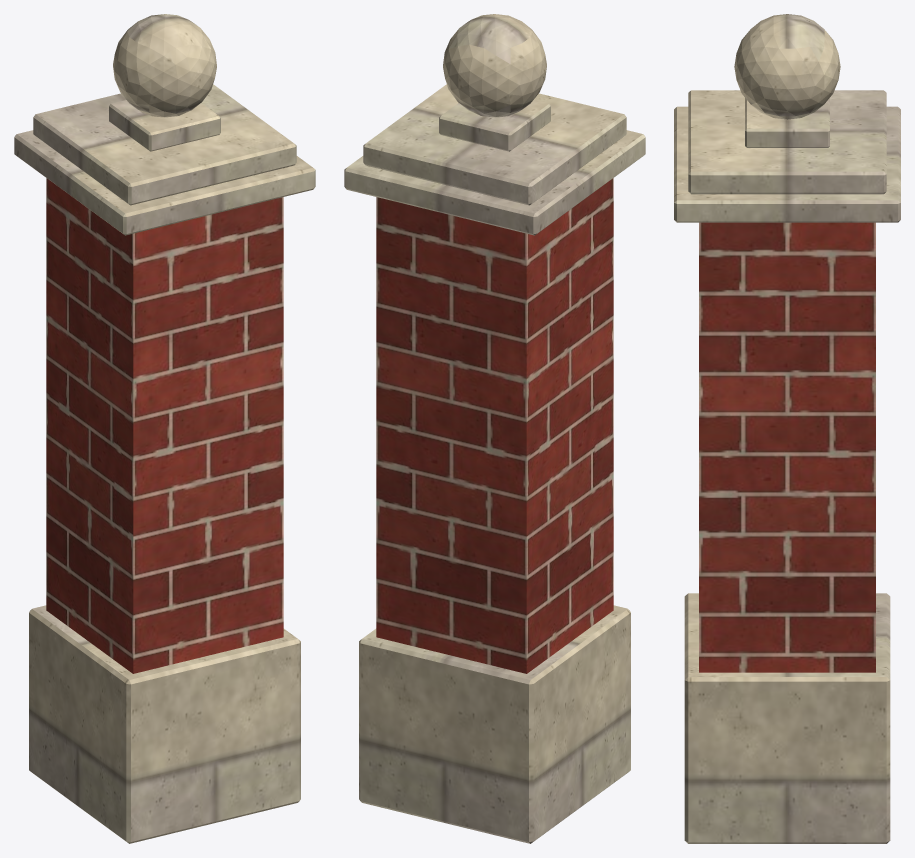
Rendered from fence_pier.glb.
3 views of the same model, side by side, from view 1: azimuth 30°, elevation 25°; view 2: azimuth 150°, elevation 25°; view 3: azimuth 270°, elevation 25° (orthographic).
Parts seen in each view (by area): view 1: fence_pier_brick, fence_pier_stone_t; view 2: fence_pier_brick, fence_pier_stone_t; view 3: fence_pier_brick, fence_pier_stone_t.
Boxes of the visible parts, x1=… form: fence_pier_brick: x1=46, y1=178, x2=283, y2=673; fence_pier_stone_t: x1=14, y1=14, x2=315, y2=843; fence_pier_brick: x1=376, y1=178, x2=613, y2=673; fence_pier_stone_t: x1=344, y1=14, x2=645, y2=843; fence_pier_brick: x1=699, y1=222, x2=875, y2=672; fence_pier_stone_t: x1=674, y1=14, x2=900, y2=843.
Size of the model in its own units: 0.64 by 2.44 by 0.64.
2 materials, 2 textured.
